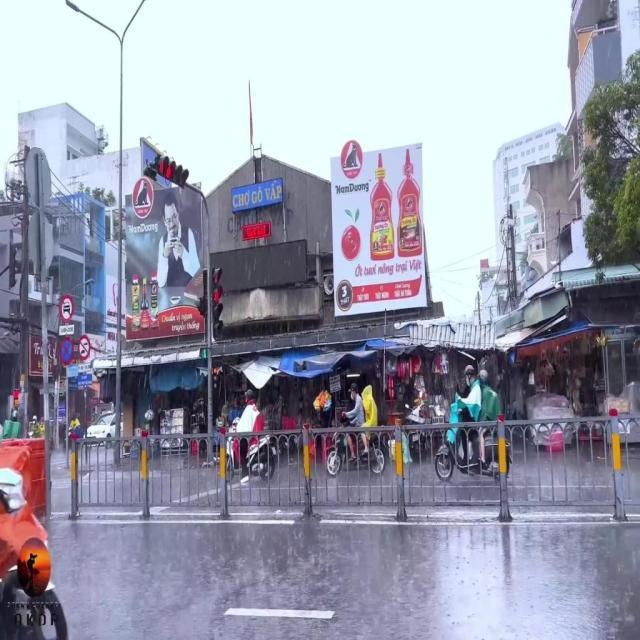103a-cam-oto: (58, 294, 75, 322)
107-cam-oto-khach-va-oto-tai: (78, 336, 90, 358)
130-cam-dung-va-do-xe: (58, 337, 74, 365)
